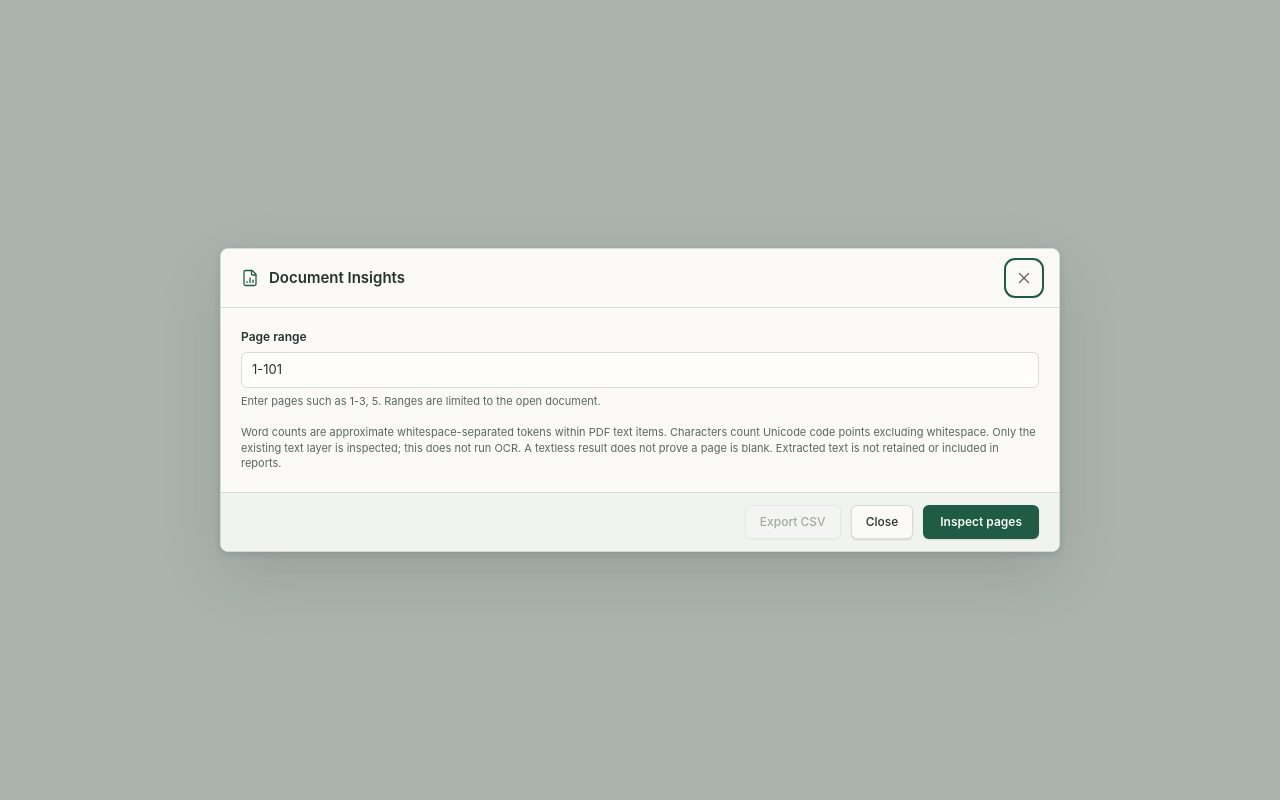
Test: DocumentInsightsDialog › exports a CSV with all pages while limiting the visible table to 100 rows
The image size is (1280, 800).
Click the button "Inspect pages" at (981, 522), box [923, 504, 1039, 538]
(page scrolled)
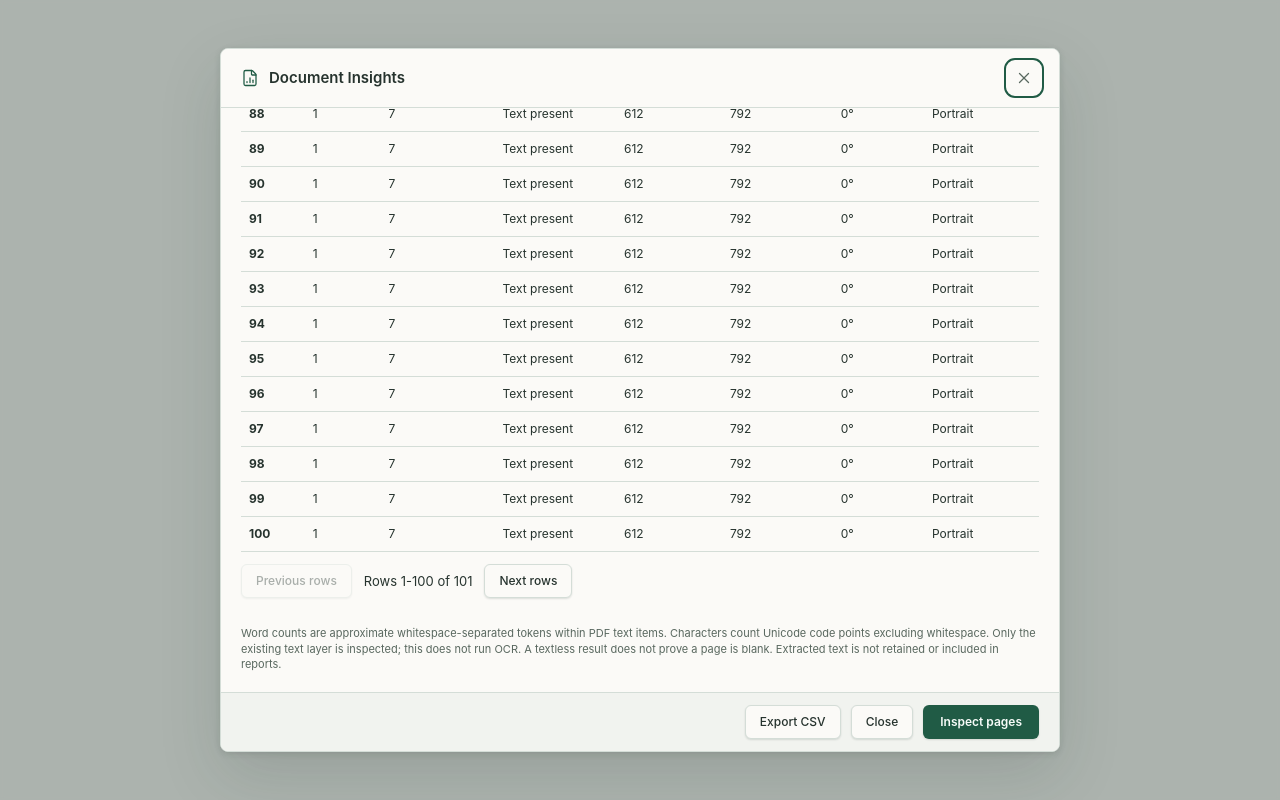
Click the button "Next rows" at (528, 581), box [484, 564, 572, 598]
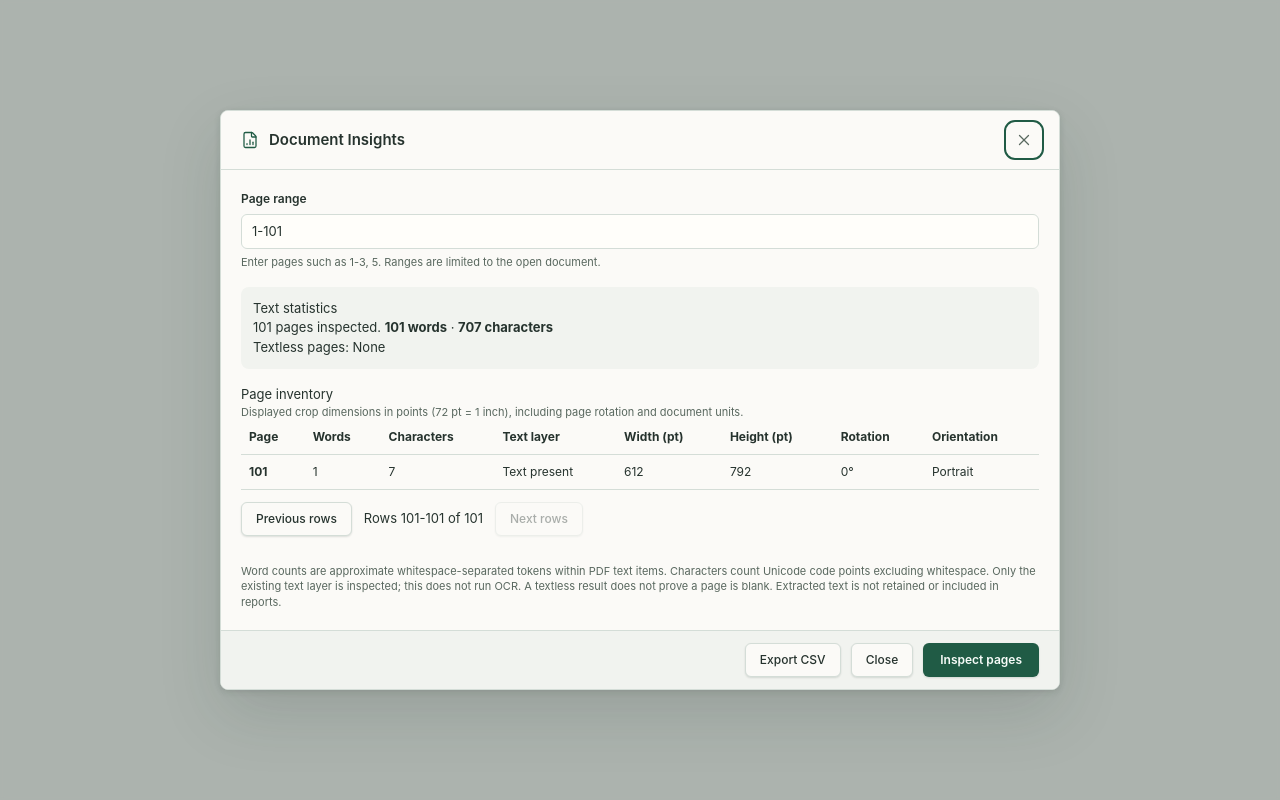
Result: the number of rows is 2 at [241, 420, 1039, 454]; [241, 454, 1039, 490]
Result: the text "Rows 101-101 of 101" is shown at [364, 509, 483, 529]
Click the button "Previous rows" at (296, 519), box [241, 502, 352, 536]
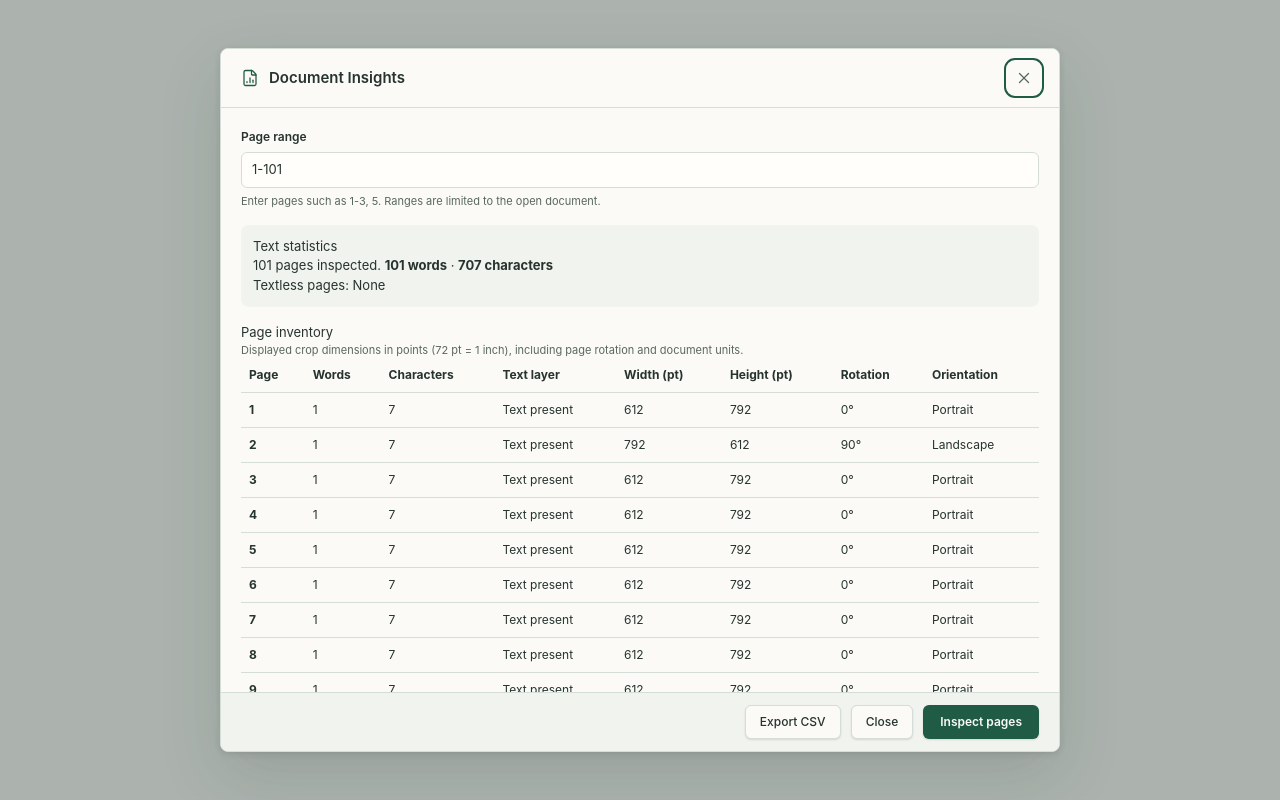
Click the button "Export CSV" at (793, 722), box [745, 705, 841, 739]
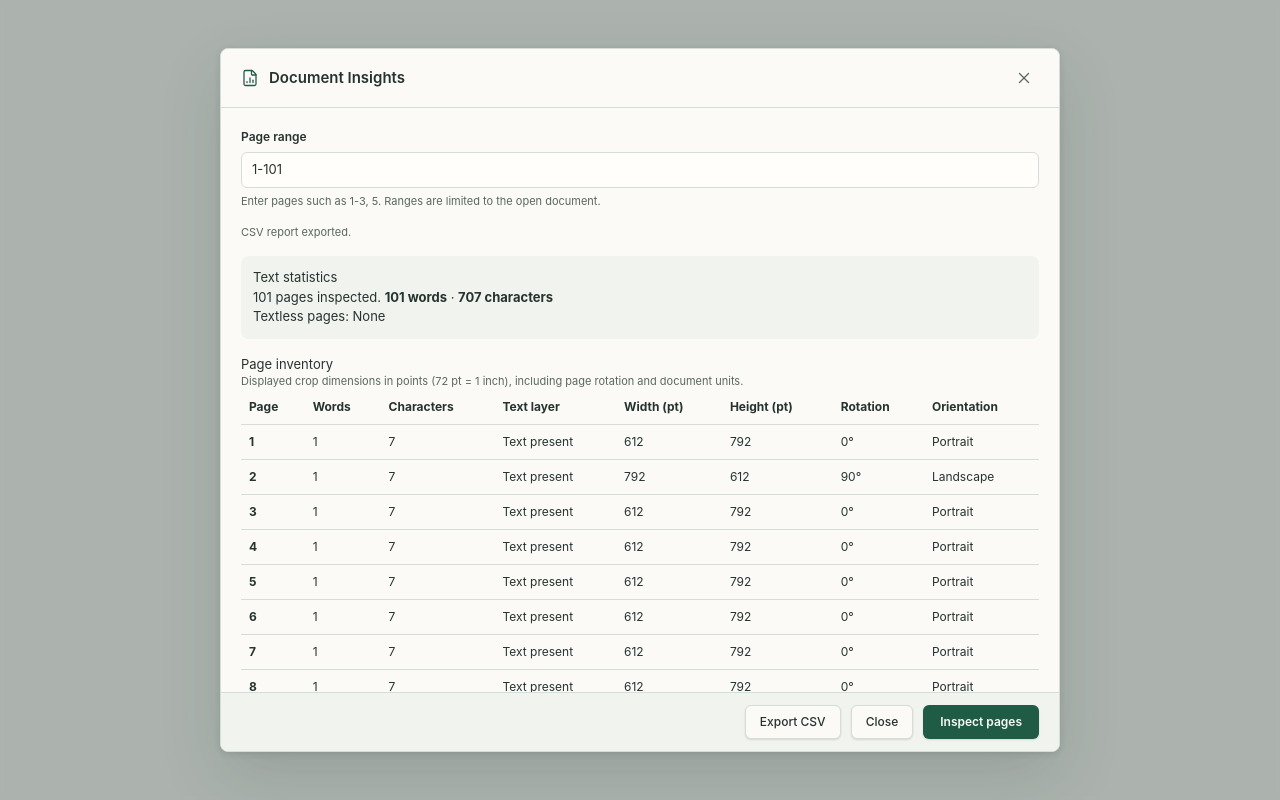
Result: the text "CSV report exported." is shown at [241, 225, 351, 239]
